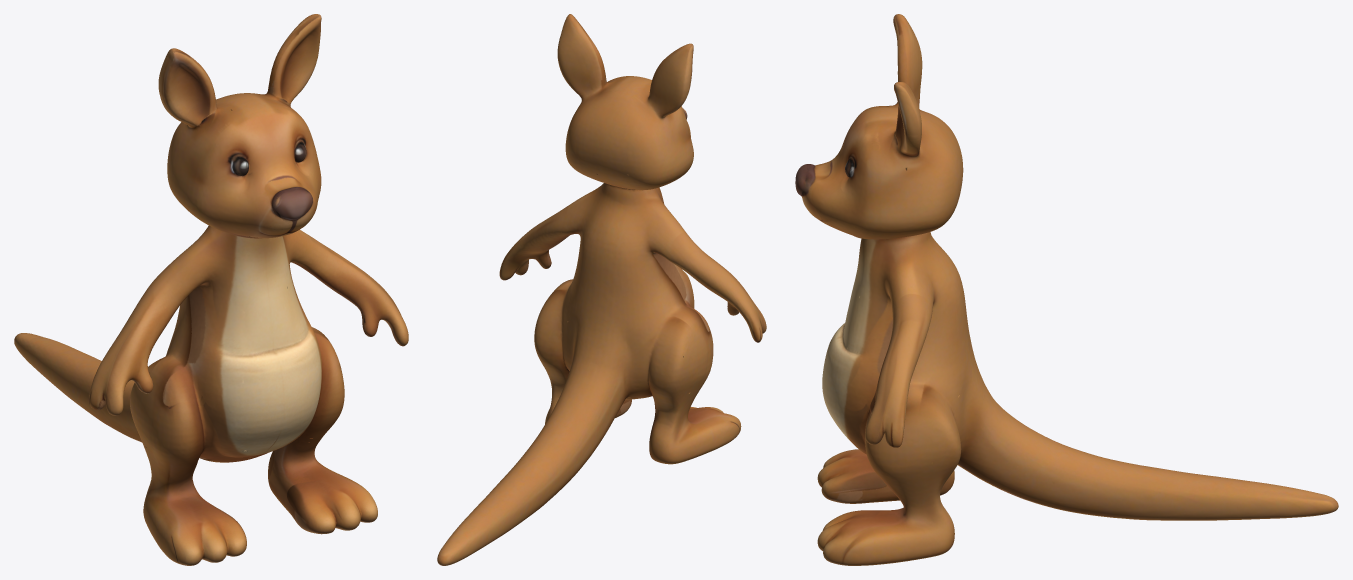
Rendered from Kangaroo_Toy_0717174256_texture.fbx.
The picture shows the model from 3 angles, left to right: view 1: azimuth 30°, elevation 25°; view 2: azimuth 150°, elevation 25°; view 3: azimuth 270°, elevation 25°; orthographic projection. The views are drawn at different scales.
Visible parts, largest first — view 1: Mesh_0; view 2: Mesh_0; view 3: Mesh_0.
Boxes of the visible parts, x1,y1,x2,y2 form: Mesh_0: (14, 14, 408, 565); Mesh_0: (437, 14, 766, 565); Mesh_0: (795, 14, 1338, 565).
Size of the model in its own units: 129 by 193 by 200.
Materials: 1 (1 with a texture image).
